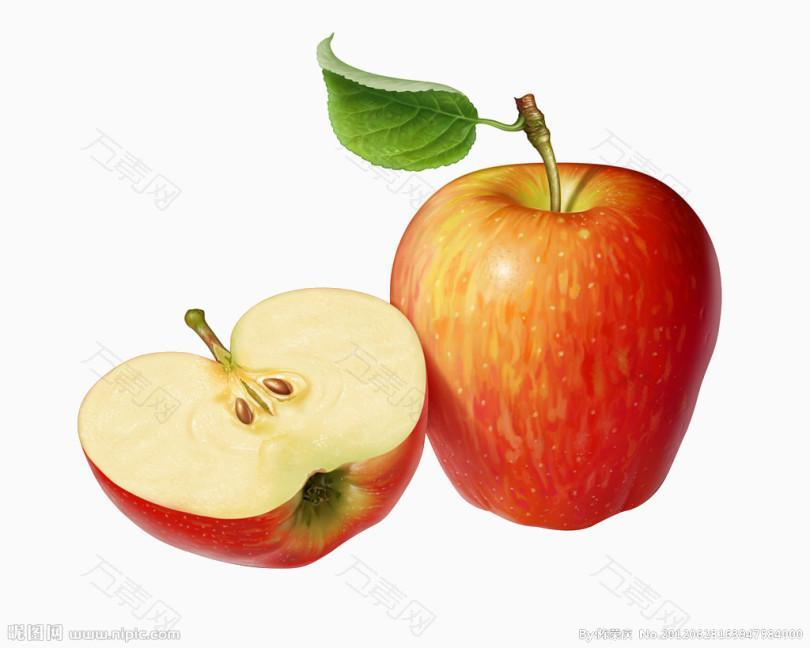apple: (394, 158, 719, 529)
